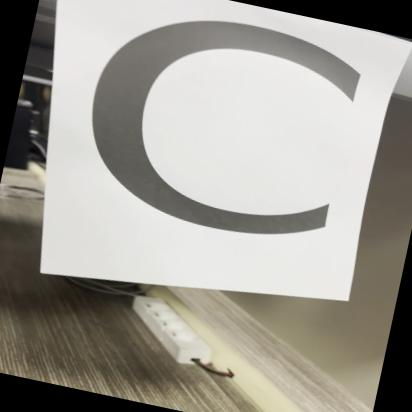seat: (32, 0, 407, 298)
